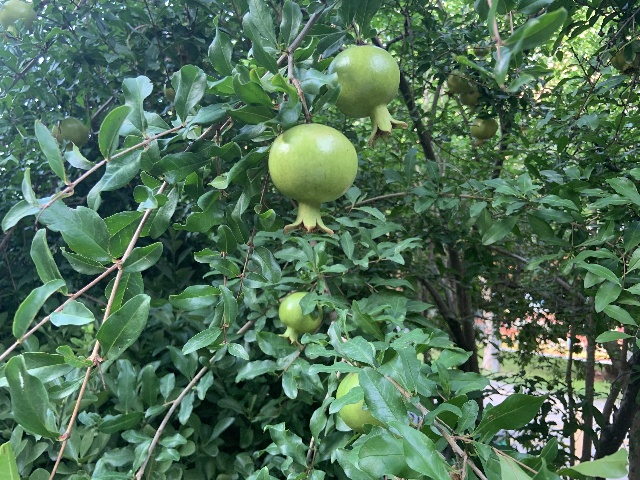mid-growth: (267, 122, 357, 237), (330, 44, 408, 147), (335, 372, 387, 434), (276, 291, 323, 346), (0, 0, 35, 39), (51, 116, 88, 151), (609, 45, 640, 76), (442, 69, 471, 100), (469, 117, 497, 149), (459, 84, 481, 111), (473, 43, 489, 60)
